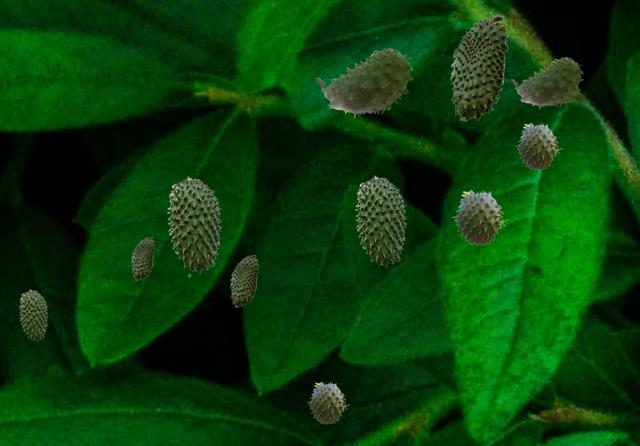guyabano: (316, 48, 412, 117), (450, 15, 507, 120), (167, 176, 221, 272), (355, 175, 406, 266), (511, 57, 582, 108), (452, 189, 507, 244), (515, 122, 561, 169), (307, 381, 348, 423), (19, 289, 47, 340), (230, 255, 257, 306), (131, 237, 153, 279)
